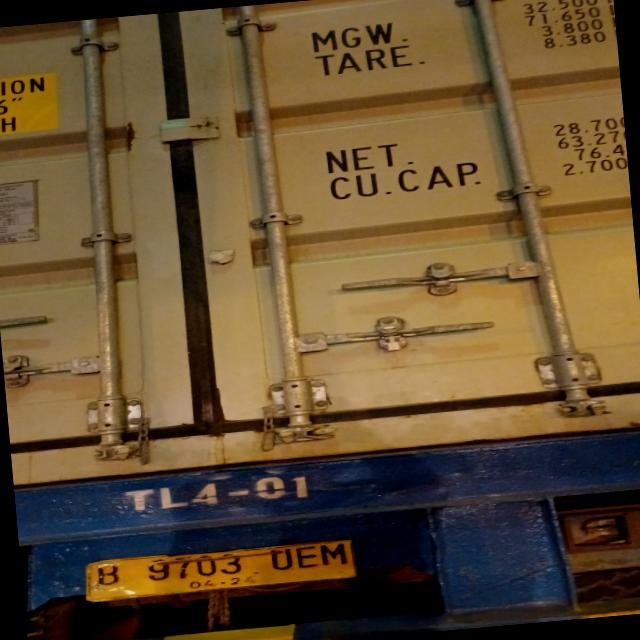seal: (378, 323, 405, 353)
